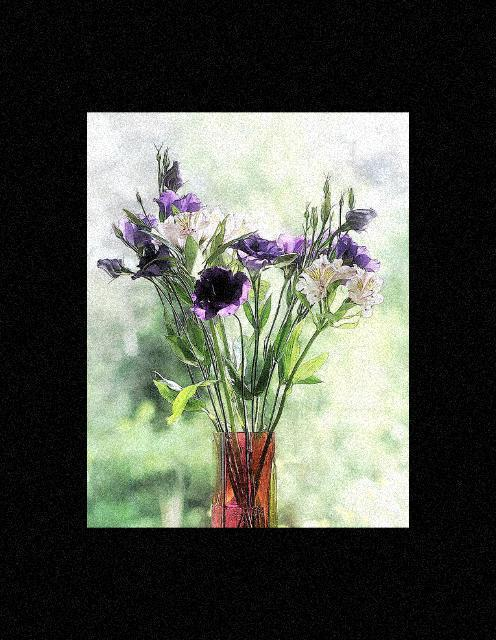Matera: (104, 155, 383, 524)
